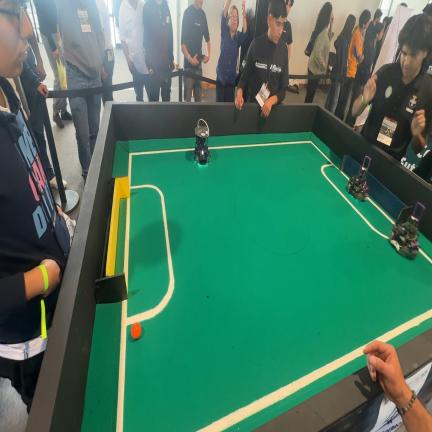cancha: (82, 132, 432, 432)
limites: (210, 140, 389, 239), (197, 345, 365, 432), (116, 184, 174, 432), (128, 148, 192, 180), (378, 309, 432, 342), (367, 198, 394, 223), (124, 198, 130, 294), (419, 248, 432, 264)
pelota: (131, 322, 141, 339)
porteria: (94, 177, 130, 304), (366, 174, 413, 224), (340, 155, 360, 174)
robot: (389, 202, 424, 259), (346, 156, 371, 201), (194, 119, 210, 165)
